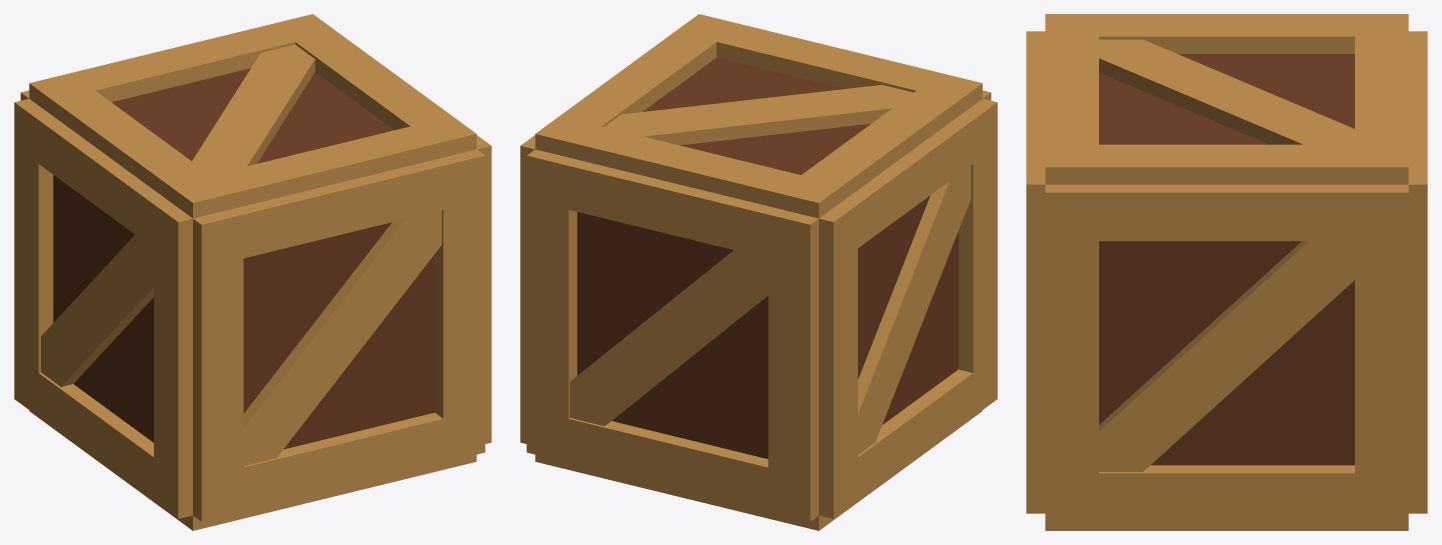
The picture shows the model from 3 angles, left to right: view 1: azimuth 30°, elevation 25°; view 2: azimuth 150°, elevation 25°; view 3: azimuth 270°, elevation 25°; orthographic projection. The views are drawn at different scales.
Parts seen in each view (by area): view 1: huitugou_2006_99; view 2: huitugou_2006_99; view 3: huitugou_2006_99.
Part boxes in pixels (left/top/right/bottom): huitugou_2006_99: left=14, top=14, right=491, bottom=530; huitugou_2006_99: left=520, top=14, right=997, bottom=530; huitugou_2006_99: left=1026, top=14, right=1427, bottom=530.
Bounding box in the file's own units: 220 × 220 × 220.
